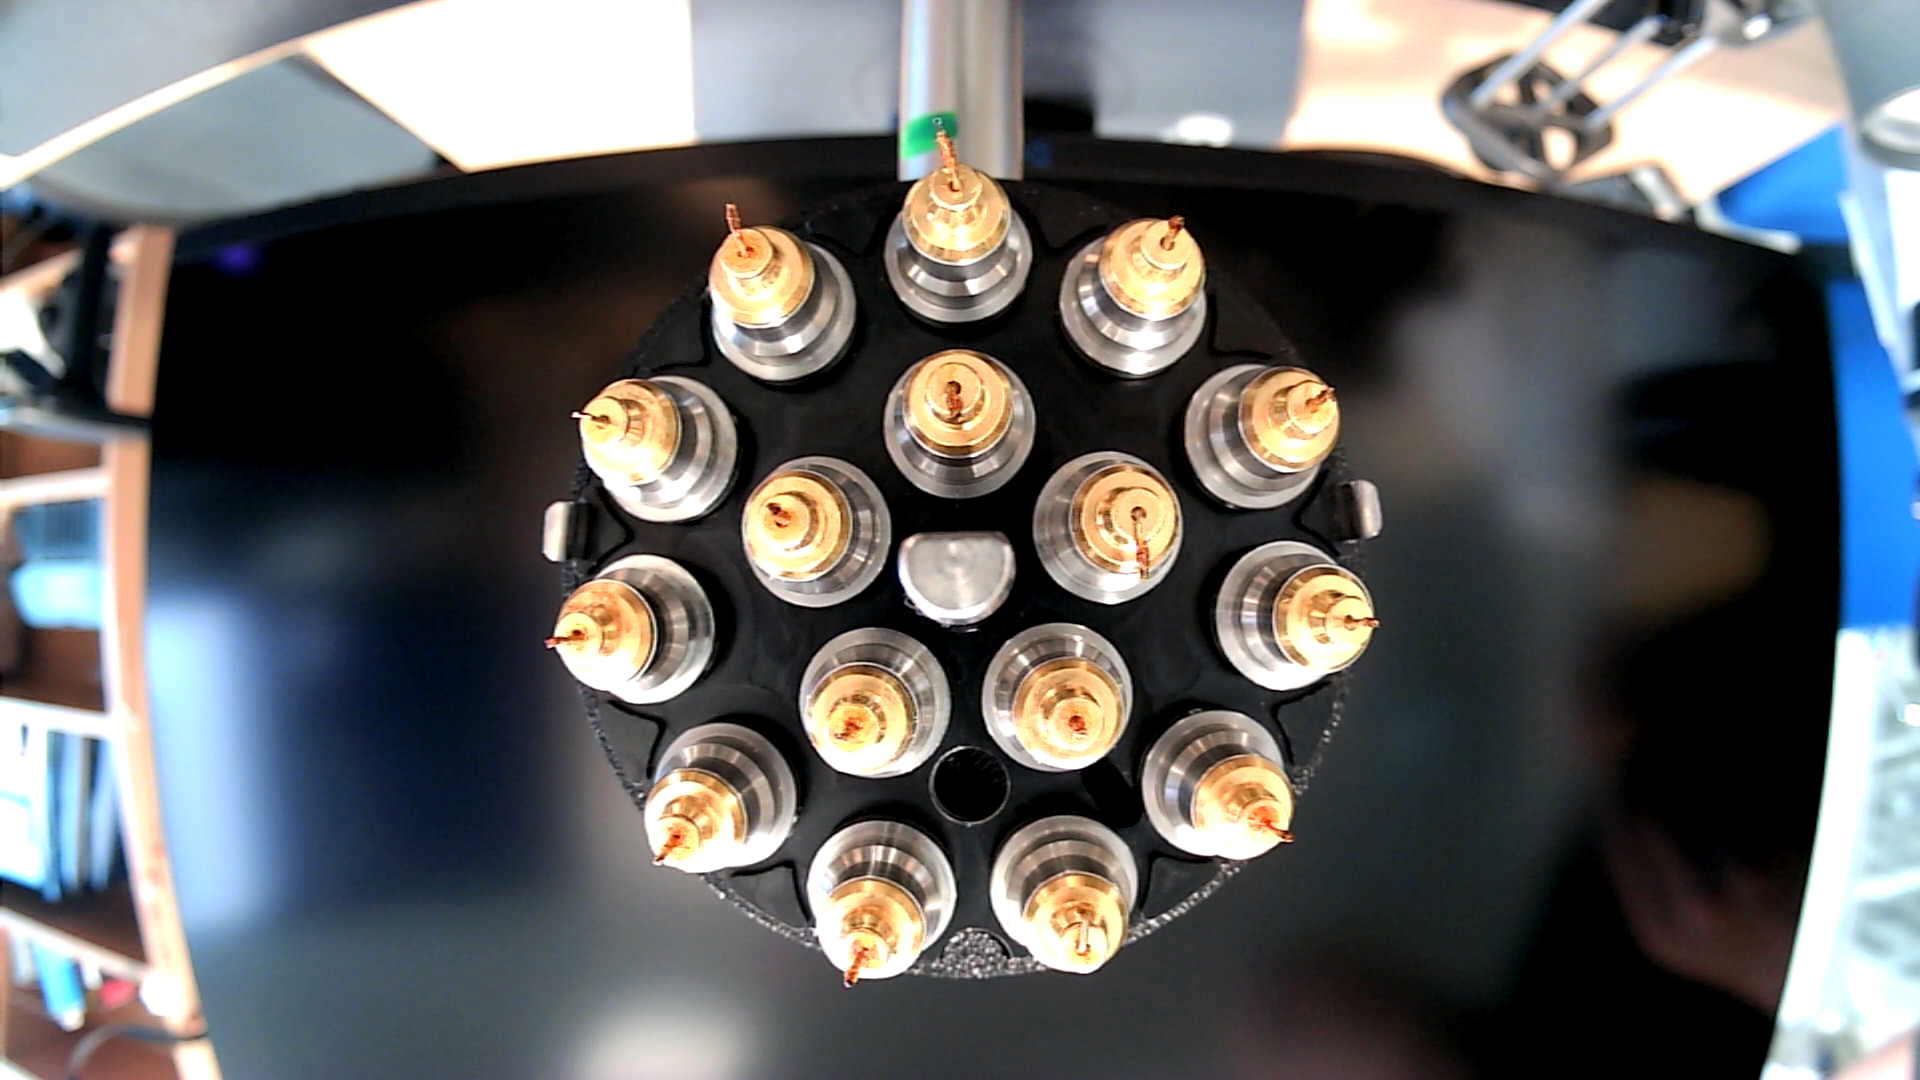bent: (881, 121, 1033, 328), (985, 814, 1143, 977), (880, 344, 1040, 502), (1031, 447, 1185, 611)
hole: (930, 742, 1013, 827)
pin: (702, 193, 858, 385), (535, 550, 721, 708), (802, 812, 957, 992), (1203, 538, 1375, 695), (568, 371, 742, 525), (1058, 210, 1209, 382), (1135, 705, 1296, 866), (791, 622, 949, 779), (641, 717, 796, 877), (1182, 361, 1341, 516), (737, 450, 893, 607), (978, 622, 1135, 777)
rod: (894, 524, 1019, 625)
